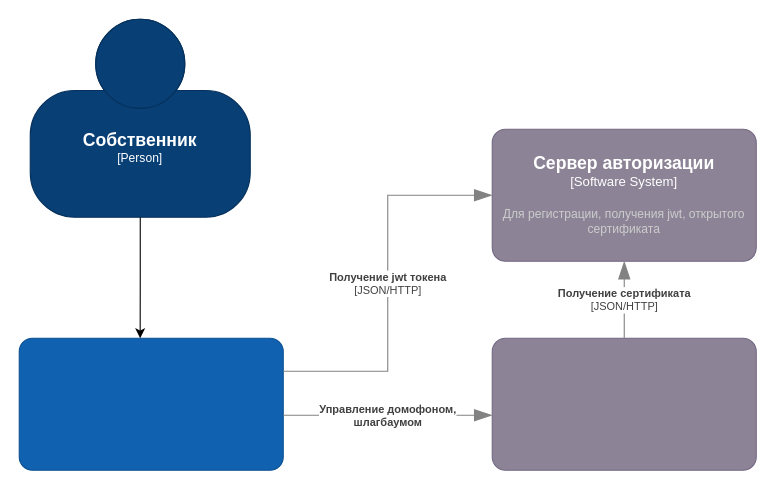
The diagram is 776 pixels wide and 490 high, and some of its shapes have lost their labels. Here are the shapes that lost their labels. From the top down, the centre of each, then its label:
the point at 150,403: PropDevelopment [Software System] Description of software system.
the point at 623,403: Умный дом [Software System] Управление домофоном, шлагбаумом
